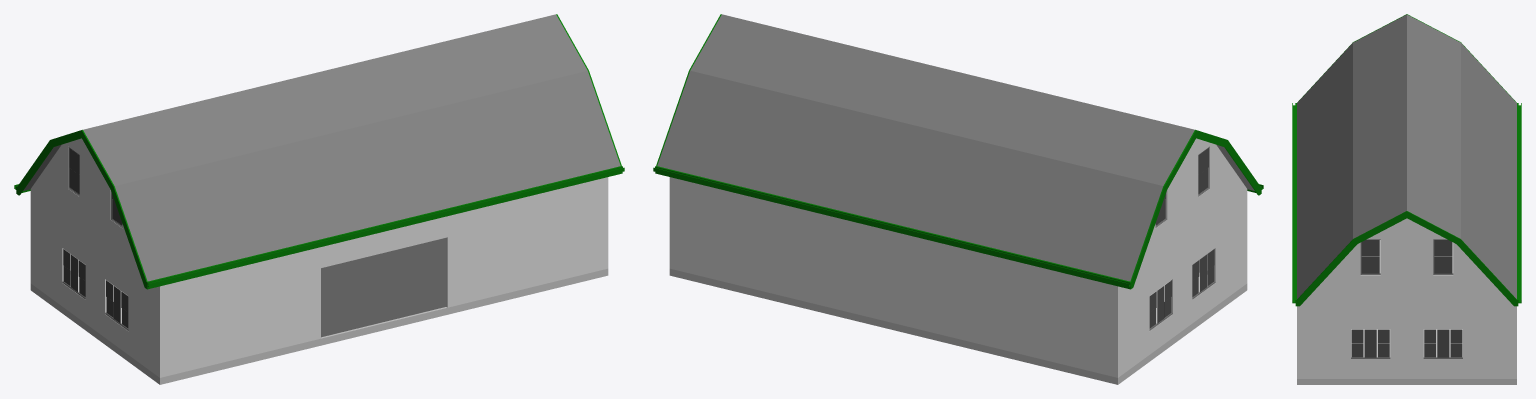
Rendered from barn.dae.
3 views of the same model, side by side, from view 1: azimuth 30°, elevation 25°; view 2: azimuth 150°, elevation 25°; view 3: azimuth 270°, elevation 25° (orthographic). The views are drawn at different scales.
Parts seen in each view (by area): view 1: elementName (×6); view 2: elementName (×5); view 3: elementName (×5).
Part boxes in pixels (x1,y1,x2,y2): elementName (×6): [14, 14, 624, 384]; elementName (×5): [653, 14, 1263, 384]; elementName (×5): [1292, 14, 1521, 384].
Size of the model in its own units: 69.56 by 34.14 by 29.48.
